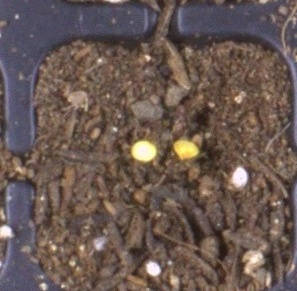chilli seed: (173, 139, 199, 161), (131, 140, 156, 162)
